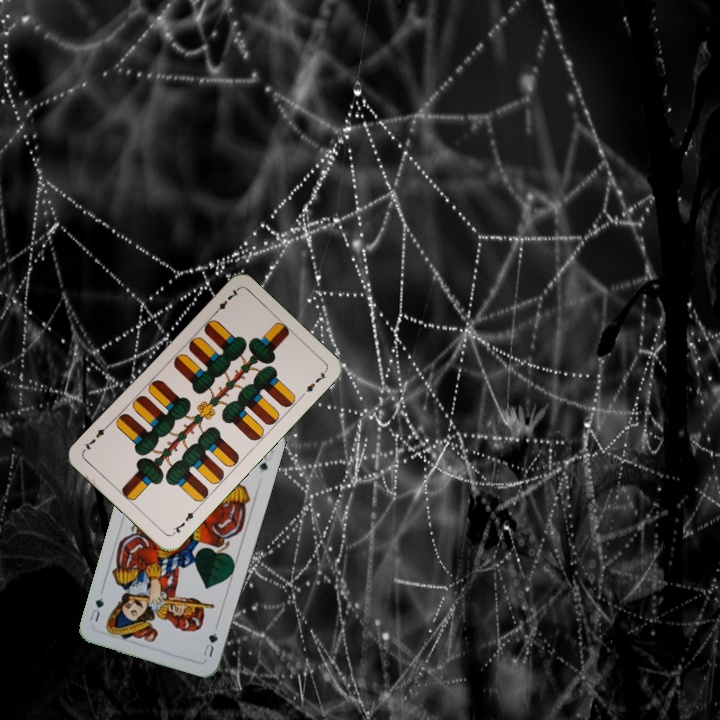E7: (209, 285, 242, 318), (168, 505, 200, 538)
GU: (199, 628, 220, 659)
